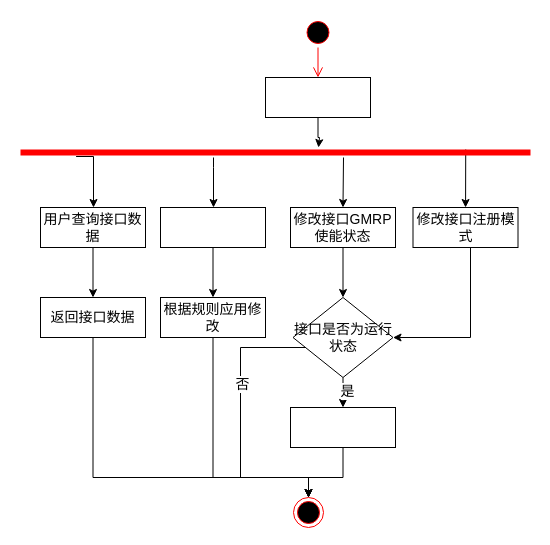
Some shapes in this 550 by 545 pixel diagram are drawn without their labels. The centre of each missing label's shape, as x and y in pixels:
修改定时器: point 213,227
外界输入: point 317,97
激励状态机: point 343,427
